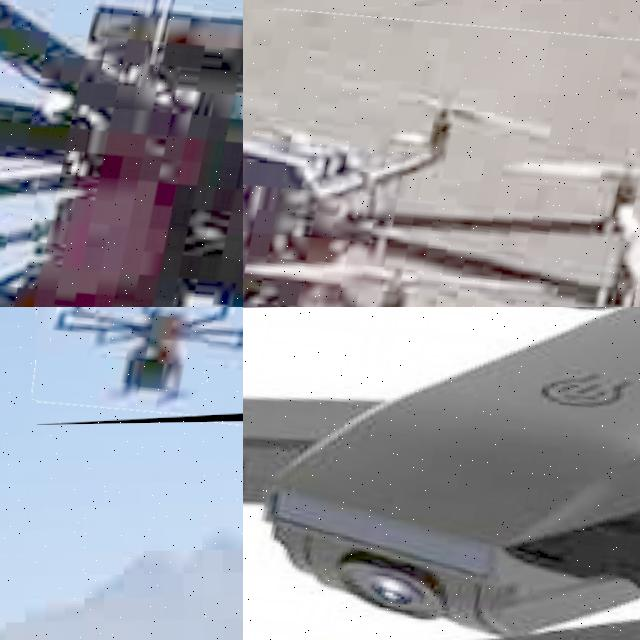0: (243, 1, 640, 307), (0, 0, 243, 307), (33, 307, 243, 424)
drone: (243, 307, 640, 640)
